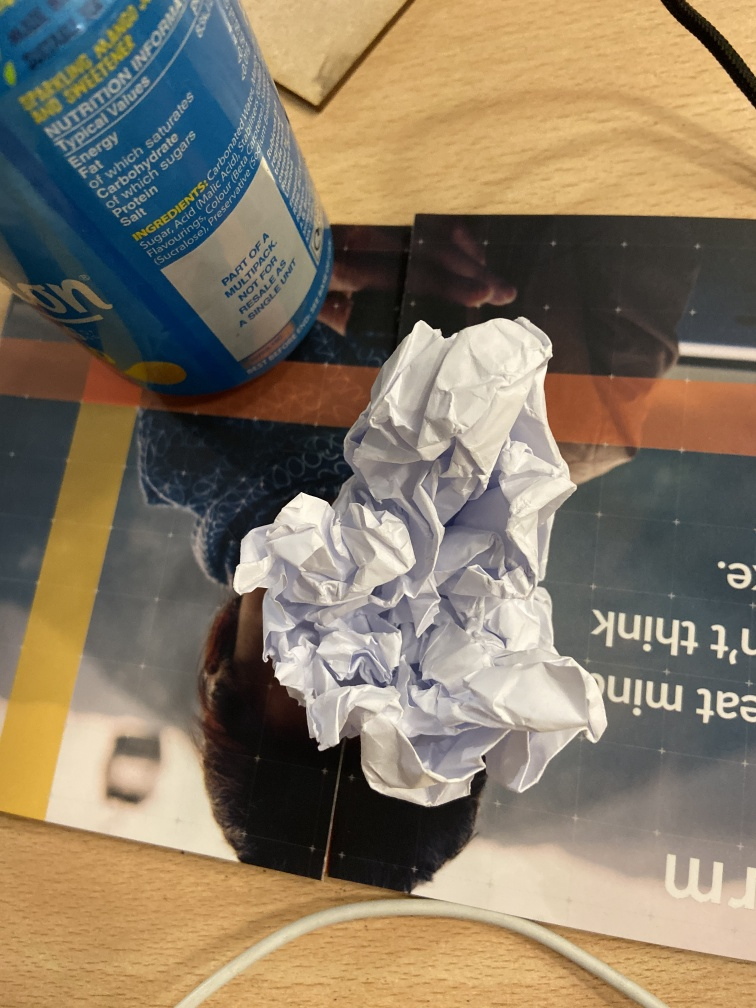can_blue: (1, 1, 336, 402)
paper_white: (234, 315, 616, 813)
